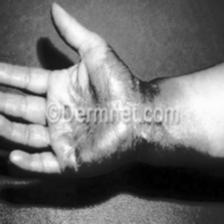Toxin: (74, 127, 210, 170), (86, 68, 179, 105)
